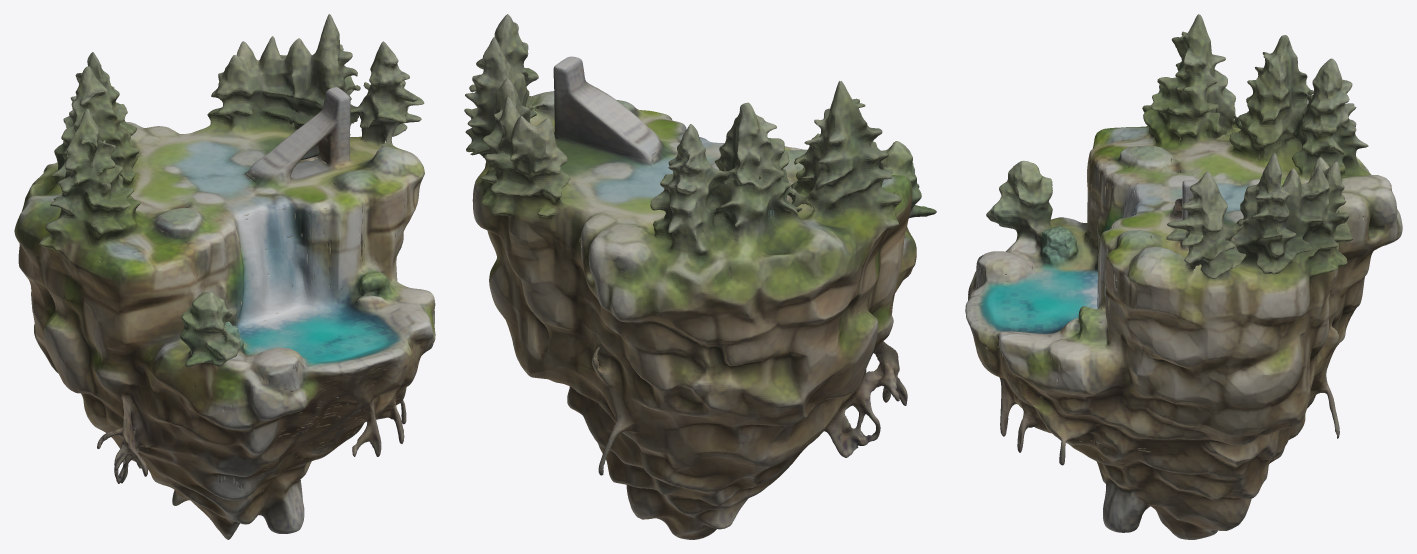
The picture shows the model from 3 angles, left to right: view 1: azimuth 30°, elevation 25°; view 2: azimuth 150°, elevation 25°; view 3: azimuth 270°, elevation 25°; orthographic projection. The views are drawn at different scales.
Visible parts, largest first — view 1: geometry_0; view 2: geometry_0; view 3: geometry_0.
Boxes of the visible parts, x1,y1,x2,y2 form: geometry_0: [14, 14, 435, 539]; geometry_0: [464, 14, 936, 539]; geometry_0: [965, 14, 1402, 539].
Bounding box in the file's own units: 0.8733 × 1 × 0.8618.
